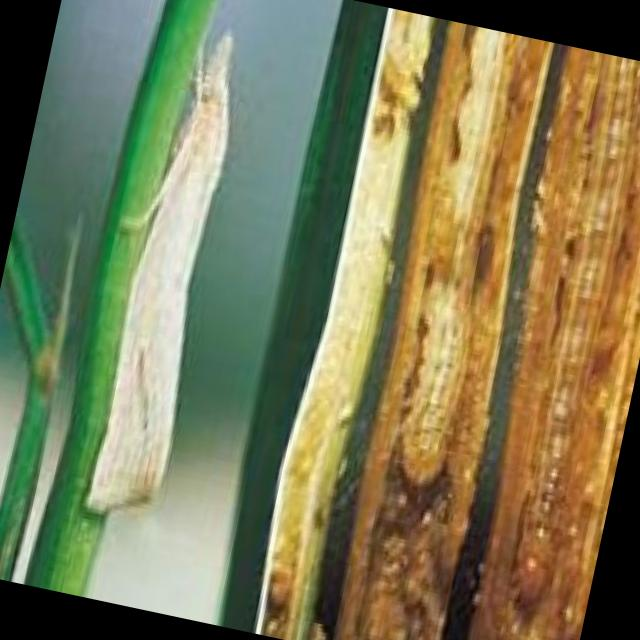stem-borer: (52, 7, 264, 534)
